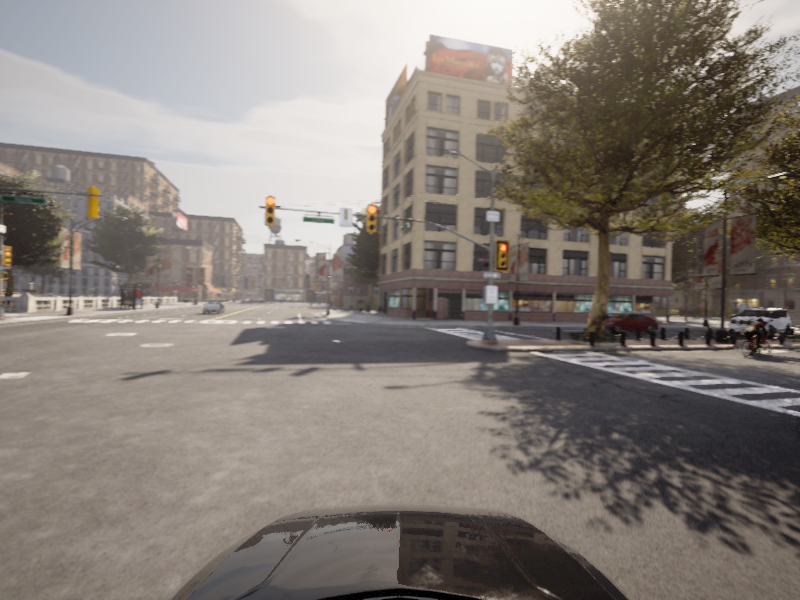vehicle: (725, 307, 795, 339), (733, 316, 780, 358), (589, 312, 663, 334), (200, 299, 226, 314)
